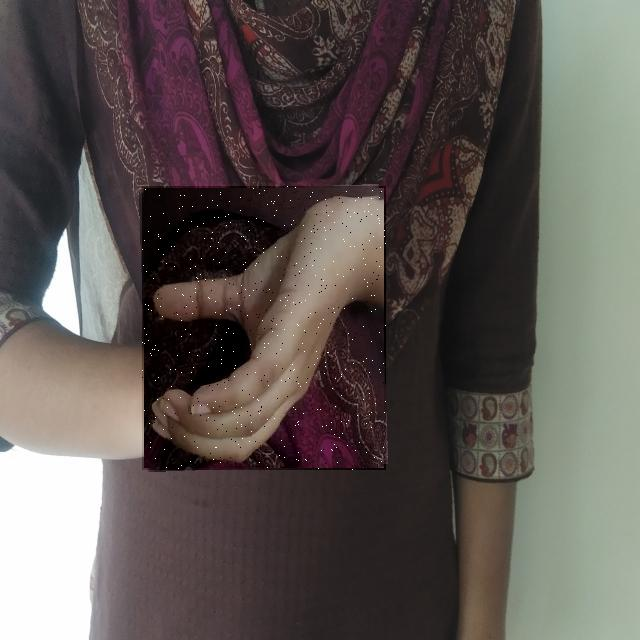C: (142, 186, 386, 470)
